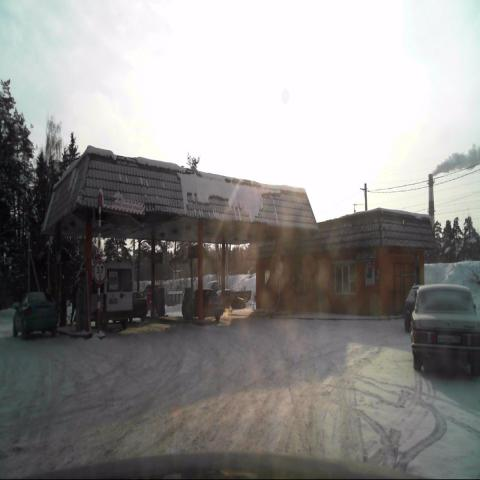3_14: (94, 259, 107, 283)
